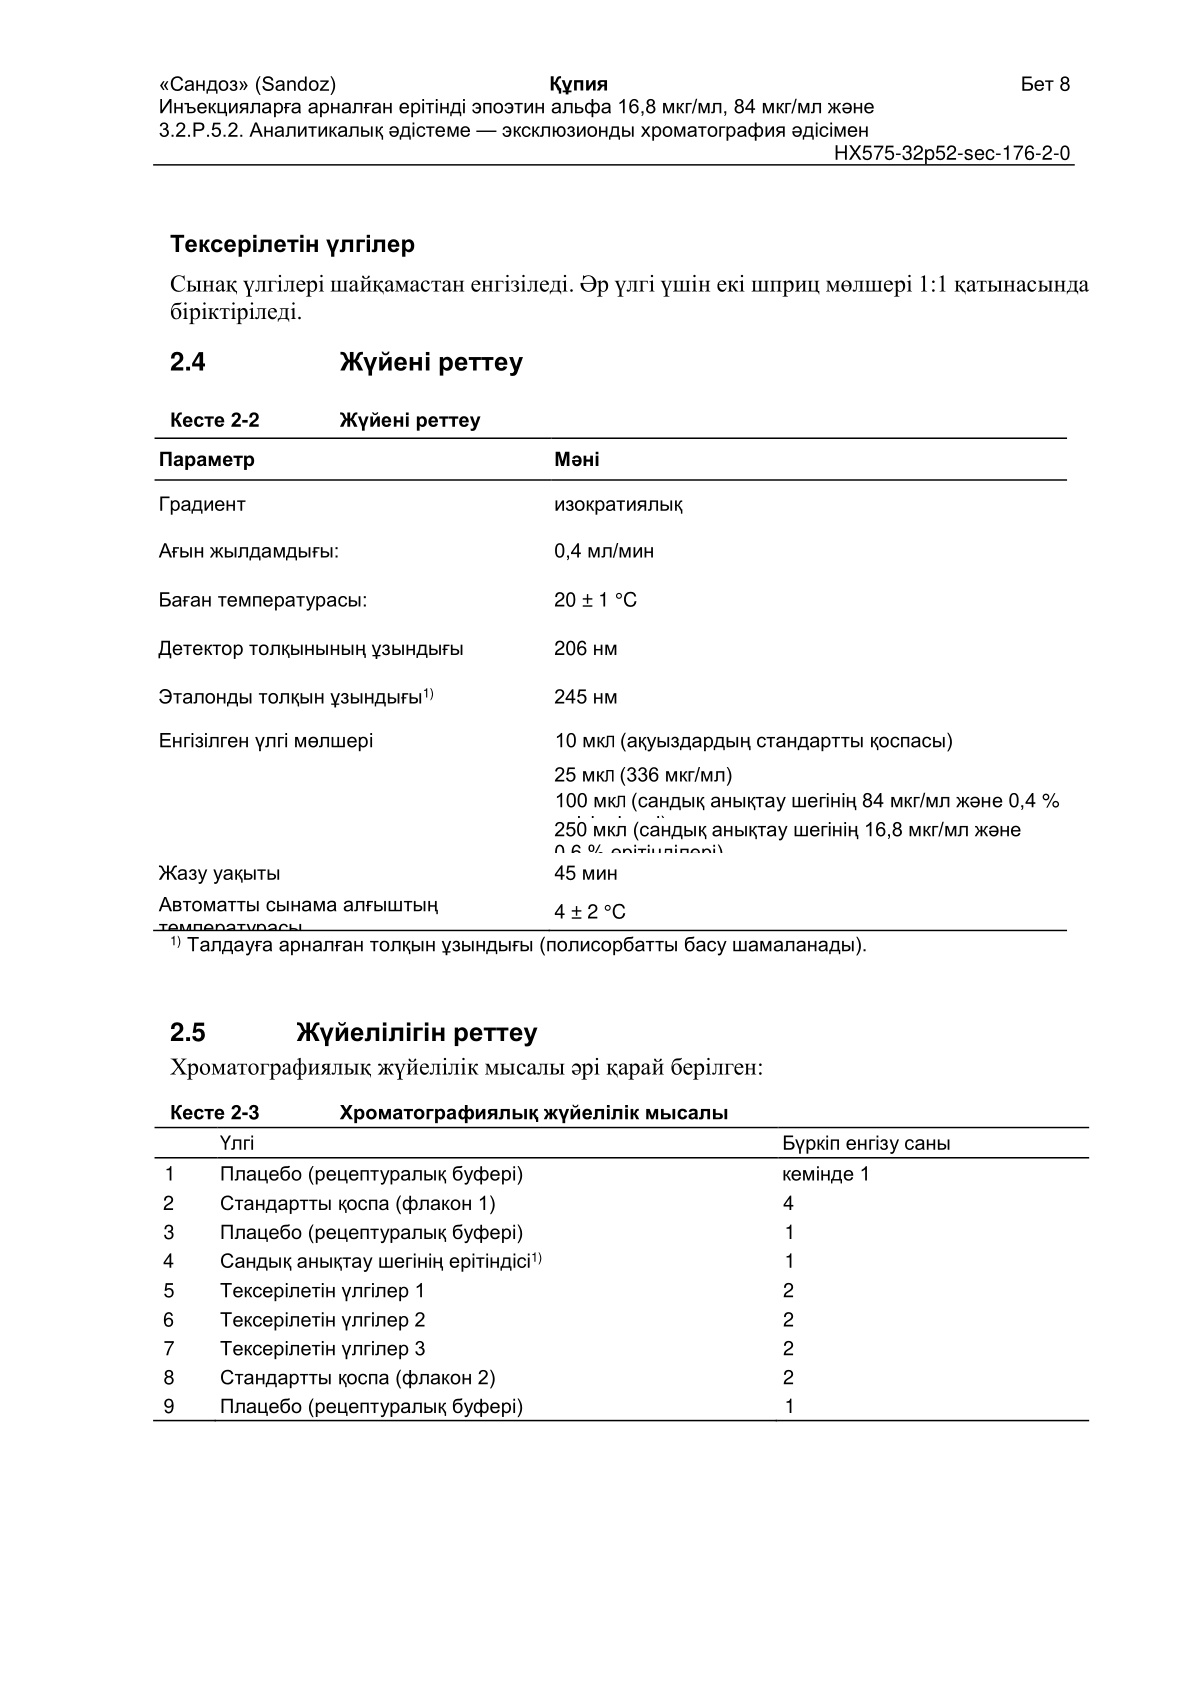partial_lined: (153, 435, 1072, 932), (152, 1126, 1090, 1424)
